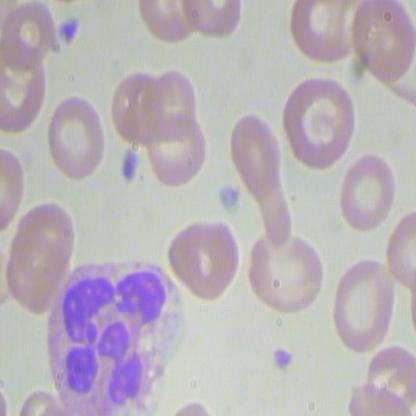Platelets: (217, 182, 245, 215), (268, 343, 296, 375), (117, 146, 138, 188), (51, 13, 79, 44)
RBC: (227, 110, 296, 248), (277, 75, 358, 172), (246, 224, 328, 319), (163, 212, 241, 309), (326, 258, 397, 356), (38, 90, 110, 186), (5, 228, 75, 318), (285, 1, 366, 67), (337, 146, 397, 232), (10, 198, 79, 271), (148, 109, 208, 188), (110, 68, 170, 147), (1, 1, 60, 72), (148, 62, 202, 130)
WBC: (51, 254, 199, 415)
